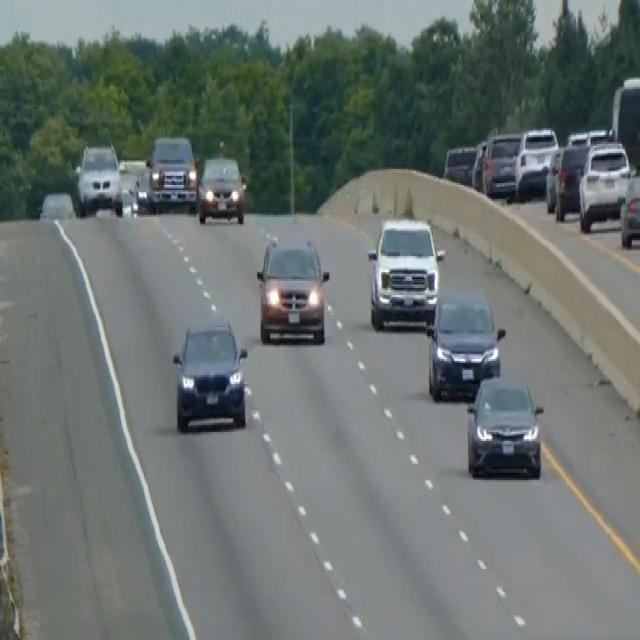bus: (609, 73, 639, 174)
car: (170, 315, 249, 432), (425, 290, 503, 400), (465, 372, 544, 480), (577, 137, 631, 231), (196, 151, 247, 224), (73, 141, 122, 215), (544, 140, 588, 218), (514, 125, 558, 199), (482, 130, 521, 201), (442, 142, 477, 187), (619, 171, 639, 249), (113, 158, 139, 215), (37, 188, 76, 220), (470, 137, 488, 190)
jeep: (366, 213, 445, 331), (144, 132, 199, 212)
minivan: (254, 224, 331, 347)
